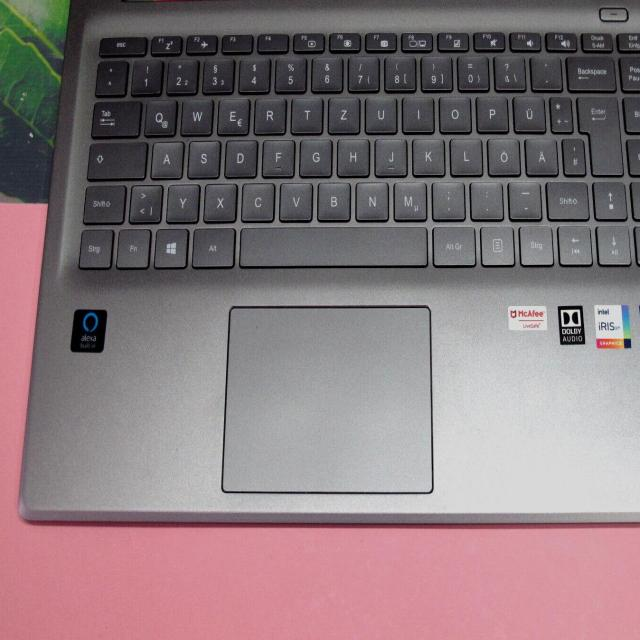0: (454, 51, 487, 89)
1: (129, 55, 162, 93)
2: (164, 55, 197, 93)
3: (199, 53, 232, 91)
4: (236, 53, 269, 90)
5: (273, 53, 306, 90)
6: (309, 53, 342, 90)
7: (345, 52, 378, 89)
8: (382, 52, 414, 90)
9: (418, 51, 451, 89)
a: (148, 137, 182, 177)
accent: (528, 51, 560, 89)
ae: (523, 134, 557, 174)
alt-left: (189, 224, 234, 267)
altgr-right: (430, 222, 475, 265)
b: (315, 178, 350, 219)
c: (238, 179, 273, 220)
caret: (93, 57, 126, 94)
comma: (429, 177, 464, 218)
d: (222, 136, 255, 176)
del: (563, 52, 615, 89)
e: (214, 94, 248, 133)
enter: (575, 91, 620, 174)
f: (260, 135, 293, 175)
g: (297, 135, 331, 175)
h: (335, 134, 368, 175)
hash: (560, 134, 584, 174)
i: (400, 92, 433, 130)
j: (373, 134, 406, 175)
k: (410, 135, 444, 175)
keyboard: (67, 8, 640, 279)
l: (447, 135, 481, 175)
less: (126, 180, 161, 221)
m: (390, 178, 426, 219)
minus: (506, 177, 540, 217)
n: (353, 178, 387, 219)
o: (436, 93, 470, 131)
oe: (485, 134, 519, 174)
p: (473, 92, 507, 130)
plus: (547, 93, 571, 131)
point: (467, 178, 502, 218)
q: (141, 97, 175, 135)
r: (251, 93, 285, 133)
s: (185, 137, 218, 176)
shift-left: (80, 180, 124, 222)
shift-lock: (84, 137, 146, 178)
shift-right: (543, 178, 588, 219)
space: (237, 223, 426, 267)
ss: (491, 51, 524, 89)
strg-left: (76, 225, 112, 267)
strg-right: (516, 222, 553, 265)
t: (289, 92, 322, 132)
tab: (88, 96, 140, 136)
u: (362, 93, 396, 132)
ue: (510, 92, 544, 130)
v: (277, 179, 312, 219)
w: (178, 94, 211, 133)
x: (202, 180, 236, 221)
y: (164, 180, 198, 220)
z: (326, 93, 359, 132)
